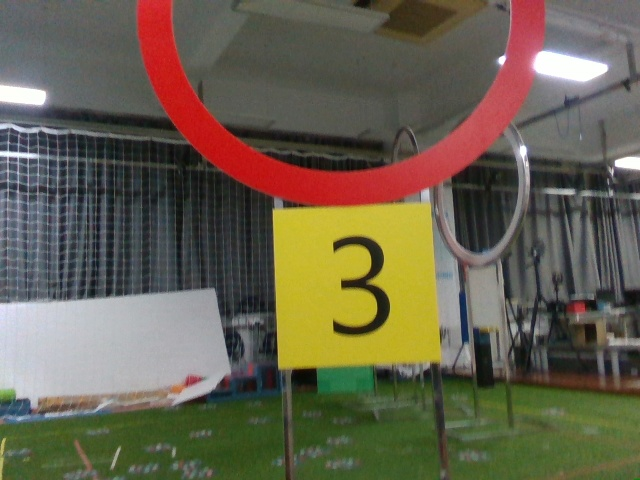target: (277, 208, 437, 356)
